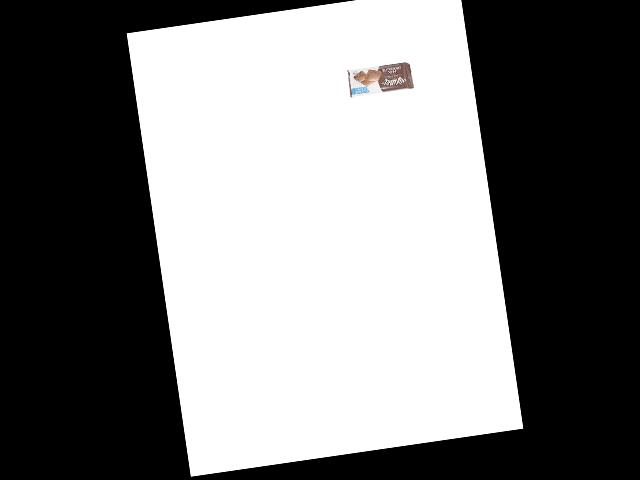chocolate: (345, 59, 413, 98)
